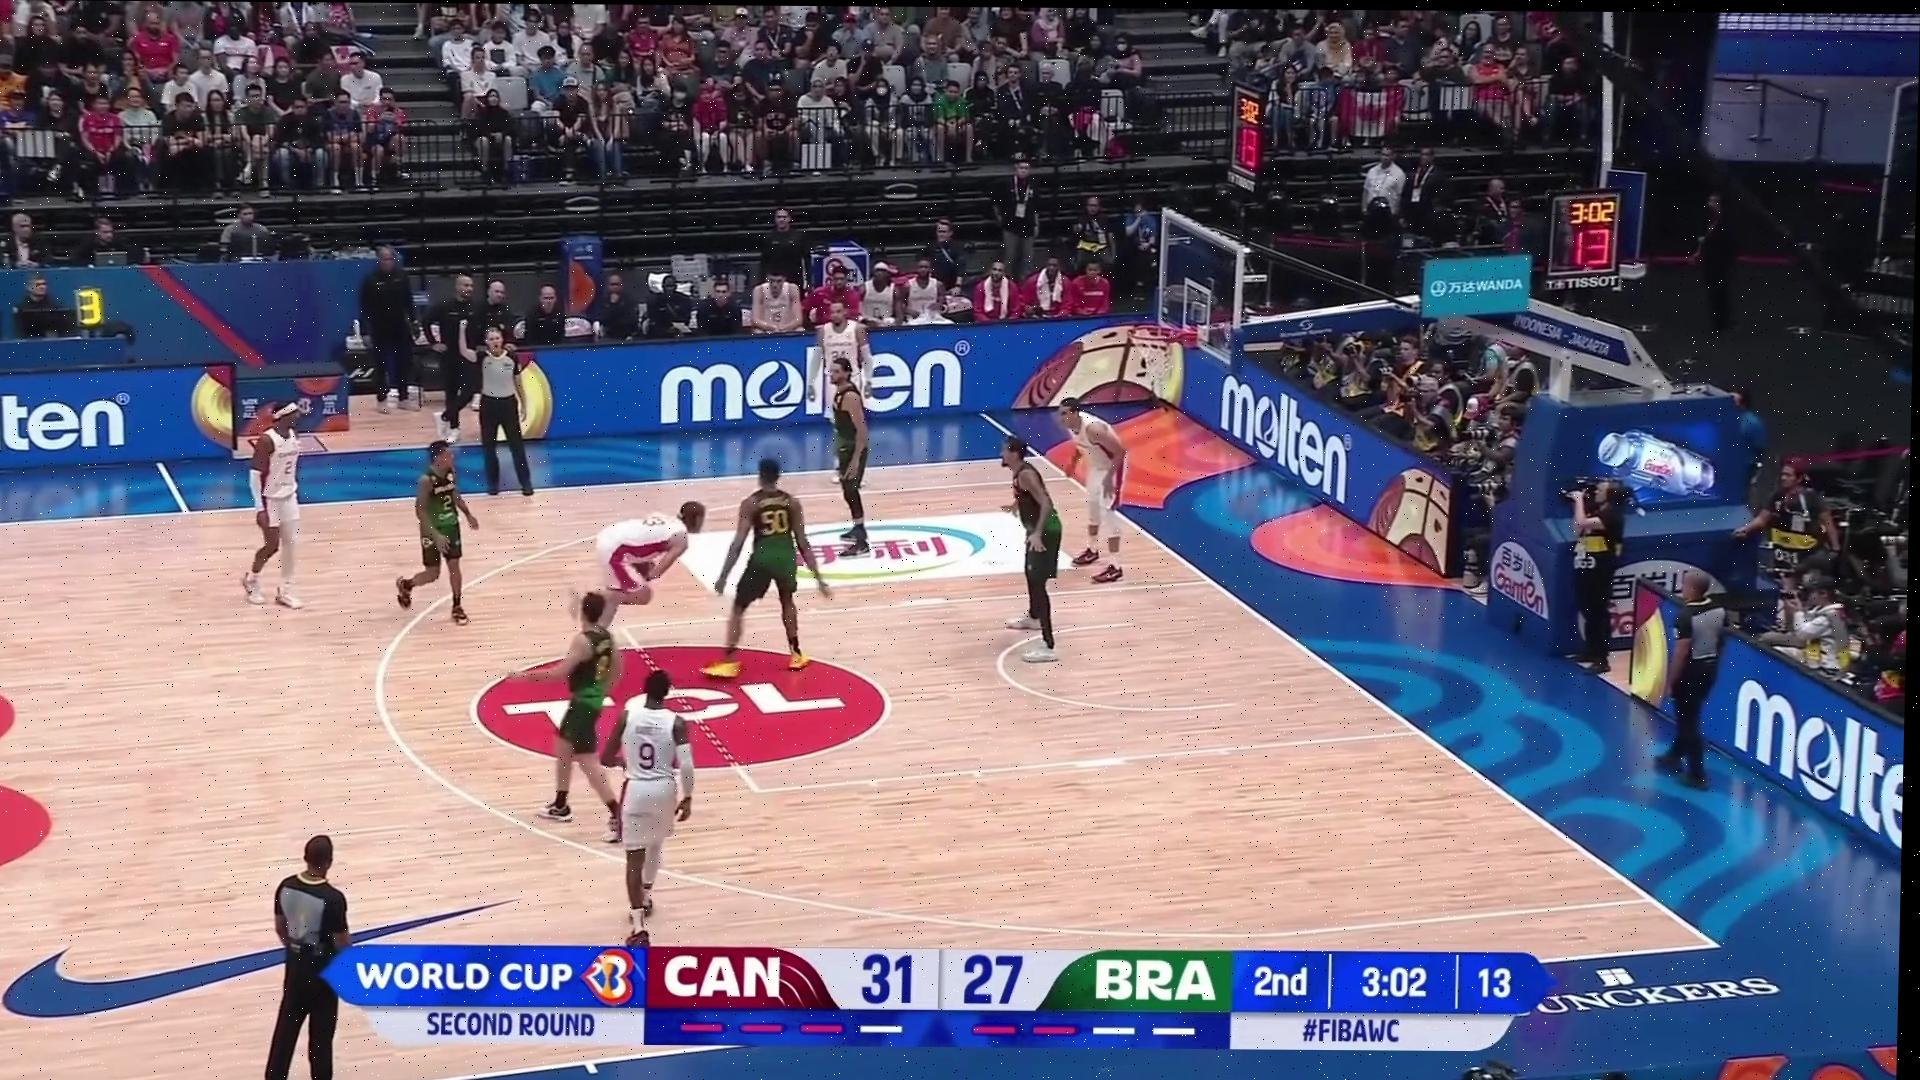no_foul: (571, 459, 865, 679)
